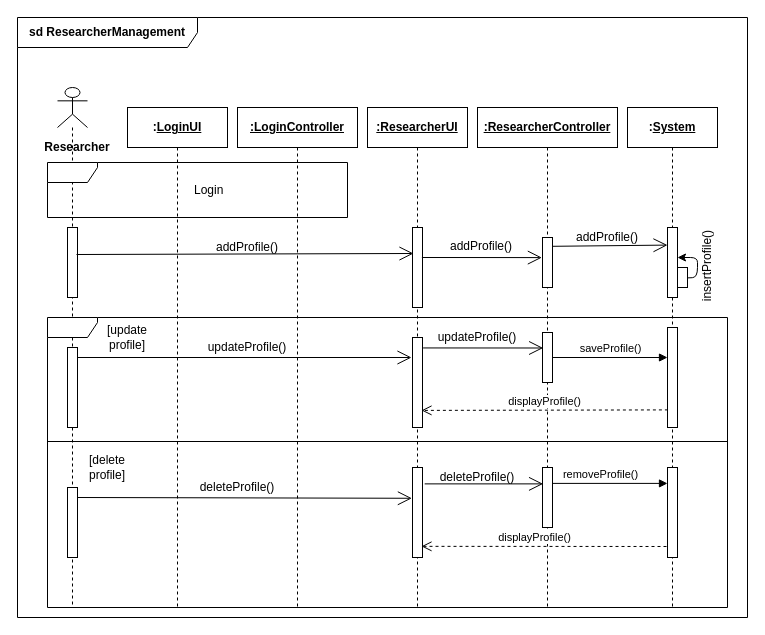
Image size: 765x635. Some labels were removed from this diagram. Here are the shapes that lost their labels. From the top down, the box of each, then its label:
(46, 162, 348, 218): ref
(46, 316, 728, 608): alt
